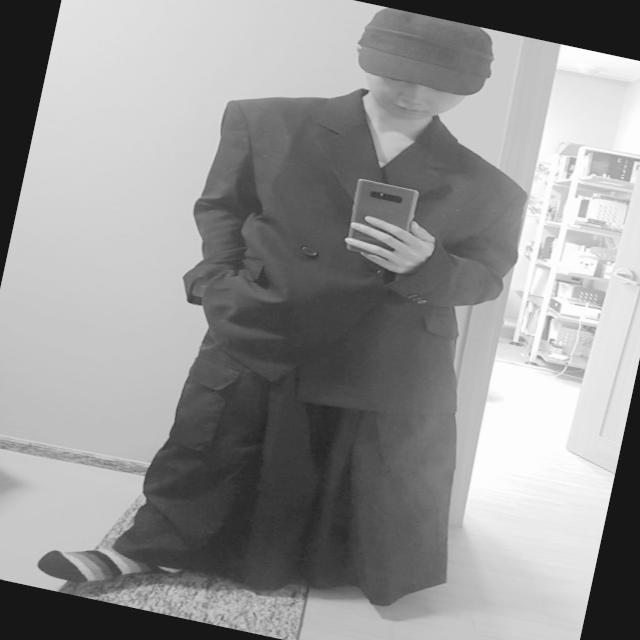blazer: (158, 57, 546, 437)
skirt: (116, 240, 499, 630)
